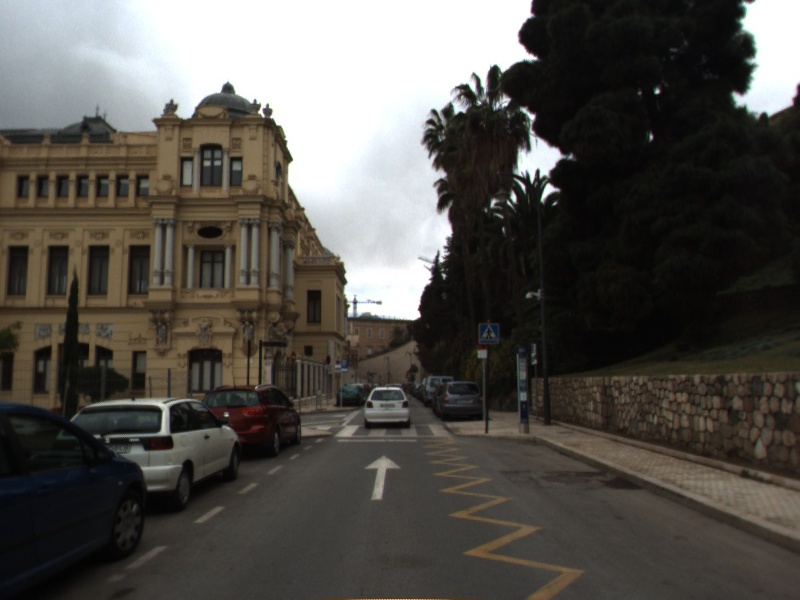STRAIGHT: (362, 453, 403, 501)
